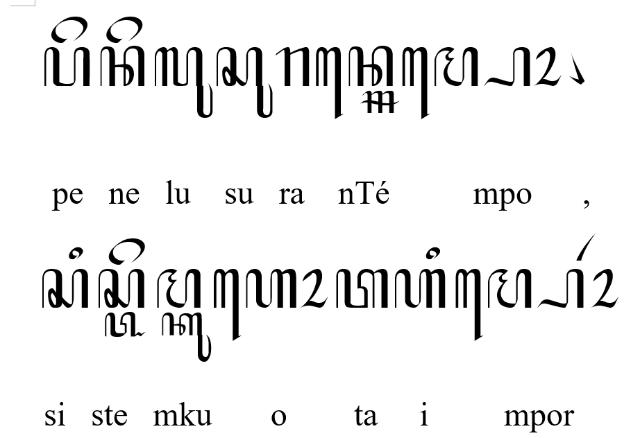S: (361, 90, 399, 114)
_p: (482, 46, 532, 88), (538, 268, 584, 310)
_r1: (576, 233, 596, 261)
_t: (104, 312, 146, 338)
e: (50, 16, 88, 44), (108, 238, 146, 266), (106, 15, 142, 43)
e1: (454, 268, 484, 342), (315, 46, 343, 120), (402, 46, 430, 120), (213, 268, 241, 342)
h: (246, 268, 298, 310), (394, 268, 446, 310)
i: (425, 247, 441, 260), (68, 248, 84, 260)
kom: (569, 52, 585, 84)
ku: (161, 312, 211, 364)
lu: (152, 46, 214, 118)
m: (156, 269, 202, 309), (488, 267, 532, 308), (434, 46, 478, 86)
n: (99, 44, 145, 88), (347, 46, 393, 86)
o: (301, 268, 329, 310), (534, 46, 562, 86), (591, 268, 619, 308)
p: (44, 46, 90, 86)
r: (275, 46, 309, 86)
s: (98, 268, 146, 310), (42, 270, 88, 308)
su: (216, 46, 274, 118)
t: (336, 269, 388, 309)
